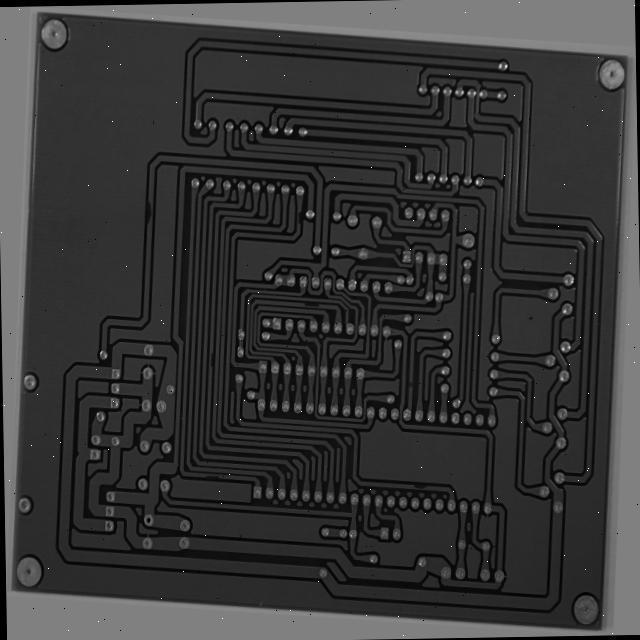mouse_bite: (127, 200, 139, 233), (425, 484, 445, 495), (203, 360, 211, 383), (286, 200, 295, 220), (297, 299, 319, 307), (206, 494, 225, 502)
